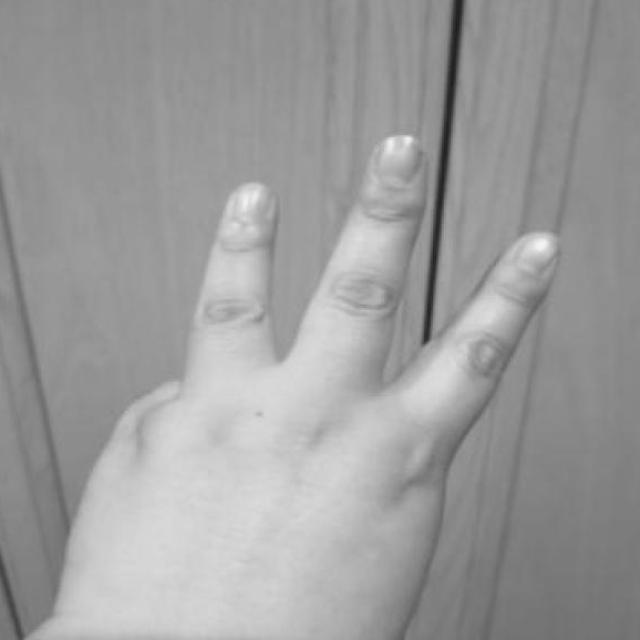W: (69, 132, 592, 640)
